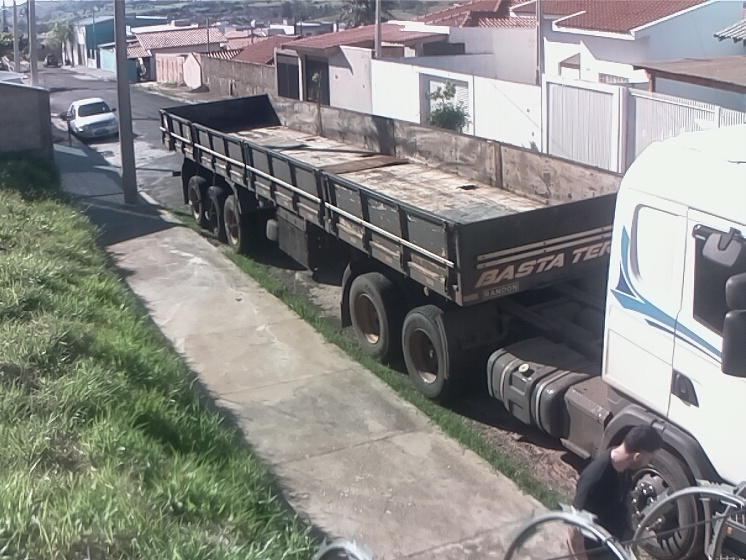person: (565, 424, 665, 560)
